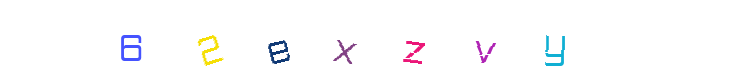2: (170, 0, 250, 80)
6: (90, 0, 170, 80)
E: (238, 0, 318, 80)
V: (374, 0, 454, 80)
X: (328, 0, 408, 80)
Y: (515, 0, 595, 80)
Z: (362, 0, 442, 80)
